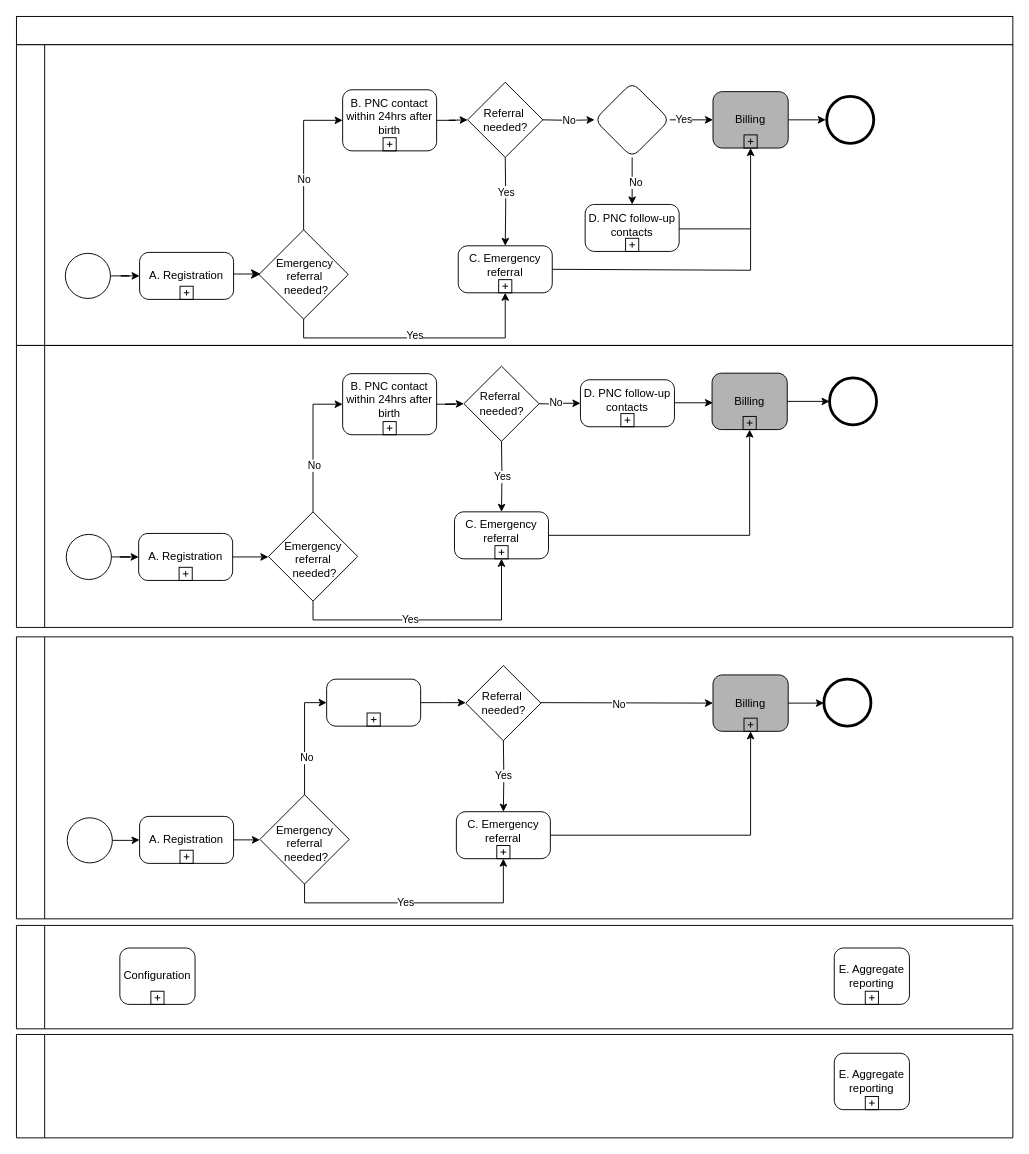
This 1029x1154 diagram has some shape labels left out. Each missing label, with the box of its shape:
Community health worker: (16, 1034, 1013, 1138)
D. PNC follow-up contact: (326, 678, 421, 726)
Discharge?: (594, 81, 670, 157)
Follow-up PNC contacts (at home or health facility): (16, 636, 1013, 919)
Health facility management: (16, 924, 1013, 1029)
Overview of key PNC processes: (16, 16, 1013, 45)
PNC contact within 24hr after birth at health facility: (16, 44, 1013, 345)
PNC contact within 24hr after birth at home: (16, 345, 1013, 627)
